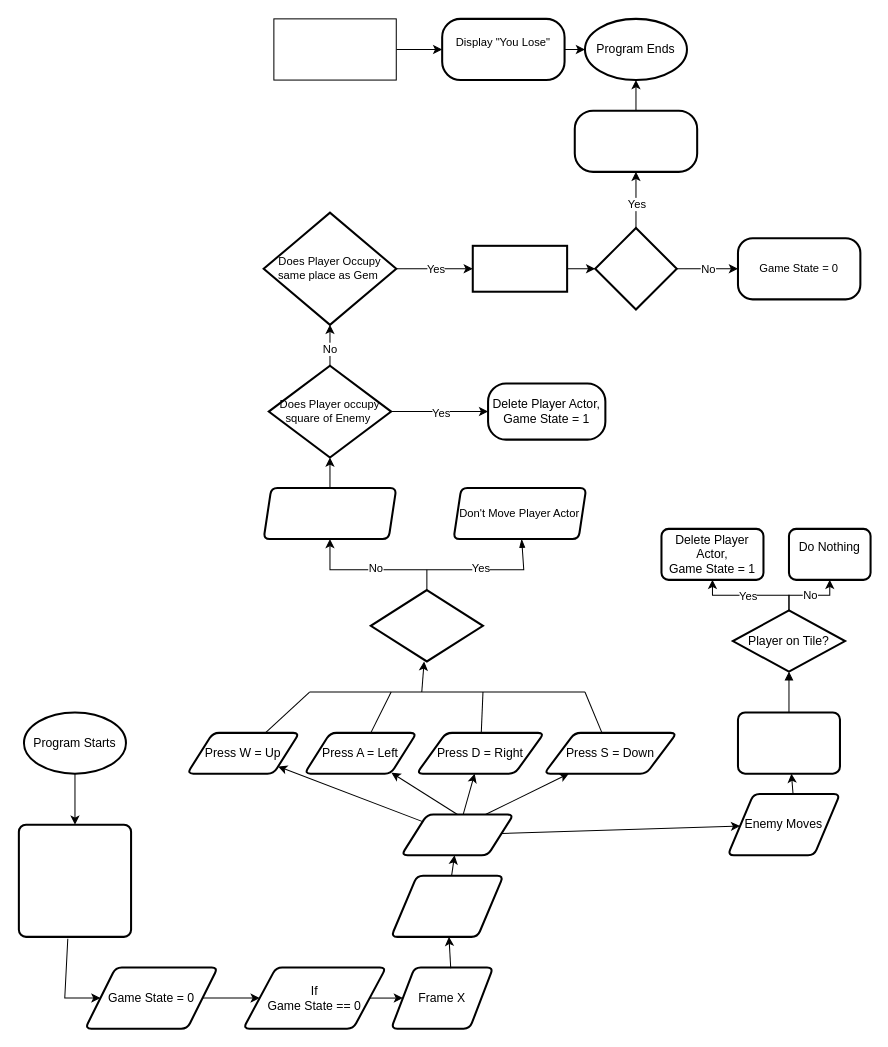
The diagram is 888 pixels wide and 1047 high, and some of its shapes have lost their labels. Each missing label, with the centre of its shape:
Display "You Win" Display Rounds: [635,140]
If Game State == 1: [334,49]
Initialize Actors: Walls Gems Enemies Player Score Rounds: [74,880]
Move Enemy Actors: [788,742]
Move Player Actor: [329,513]
Player Turn: [447,905]
Rounds + 1: [457,834]
Score + 1: [519,268]
Score == 3?: [635,268]
Wall in Direction?: [426,625]
